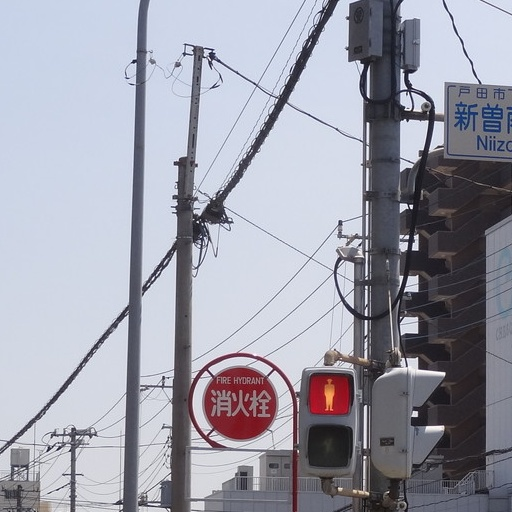Pedestrian_Signal_Red: (297, 363, 360, 477)
